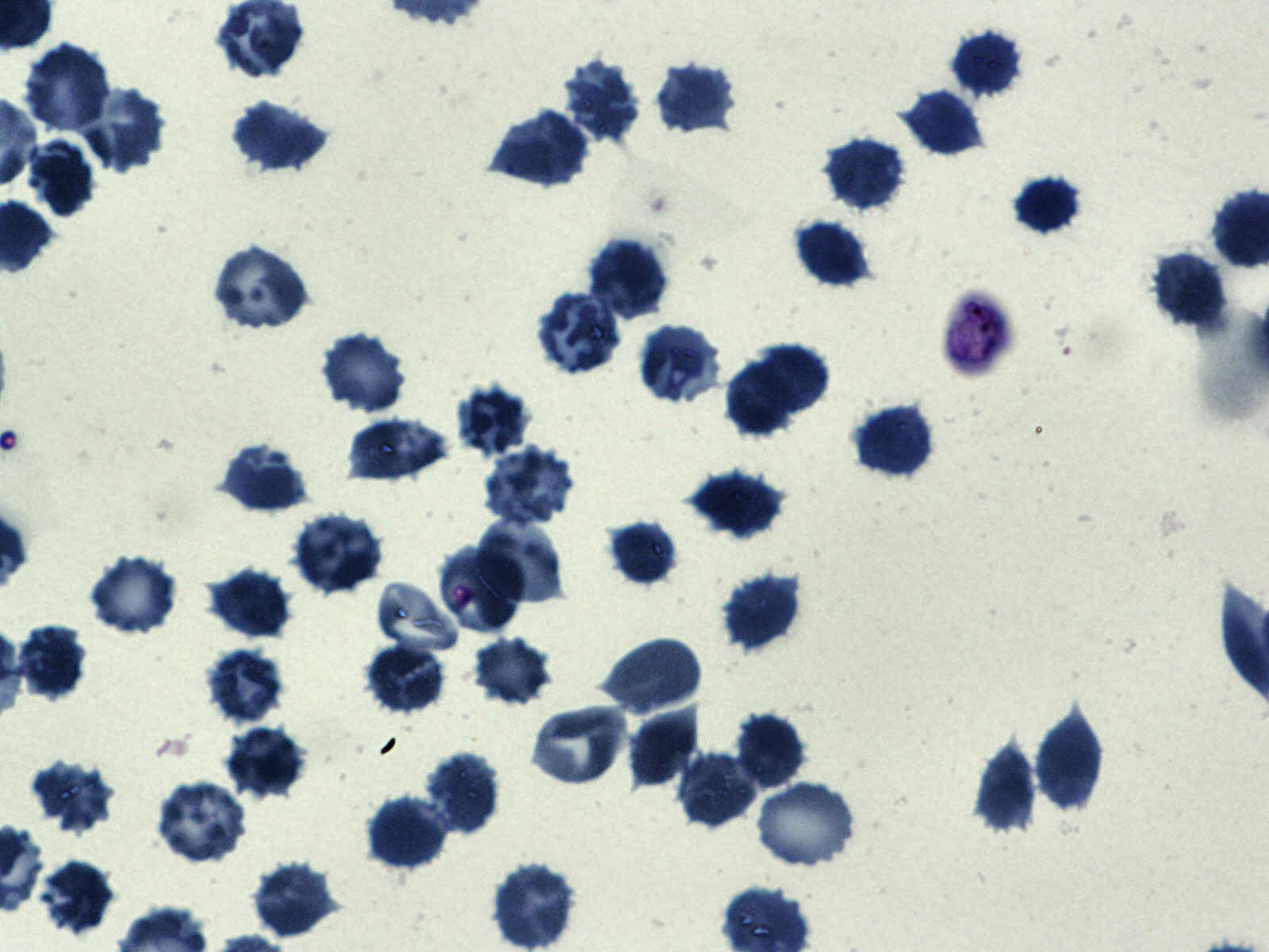Infected: (941, 290, 1017, 378)
Uninfected: (755, 780, 857, 869), (212, 245, 310, 331), (472, 516, 562, 603), (677, 749, 767, 834), (533, 705, 628, 784), (439, 547, 525, 634), (26, 43, 110, 132), (1035, 707, 1106, 810), (155, 782, 247, 860), (79, 86, 165, 169), (536, 294, 624, 375), (295, 512, 382, 592), (607, 640, 702, 713), (316, 331, 409, 405), (236, 100, 330, 173), (90, 558, 179, 635), (496, 863, 576, 948), (637, 323, 720, 404), (497, 111, 587, 185), (485, 449, 575, 523), (588, 238, 668, 321), (347, 414, 440, 485), (688, 470, 788, 536), (972, 743, 1042, 837), (564, 60, 641, 143), (427, 750, 501, 835), (209, 566, 290, 642), (627, 703, 696, 791), (228, 725, 306, 802), (727, 571, 804, 649), (951, 23, 1026, 103), (378, 581, 460, 654), (24, 136, 94, 220), (829, 133, 905, 209), (856, 402, 932, 478), (207, 649, 284, 724), (39, 858, 114, 935), (370, 640, 447, 714), (371, 797, 450, 869), (1153, 250, 1225, 329), (255, 865, 335, 936), (735, 713, 806, 793), (454, 384, 531, 457), (33, 758, 109, 830), (474, 635, 553, 704), (220, 446, 306, 509), (656, 62, 734, 131), (18, 623, 88, 698), (903, 89, 982, 155), (792, 220, 866, 290), (727, 362, 792, 439), (755, 346, 829, 413), (609, 520, 677, 588), (1014, 173, 1080, 236)
